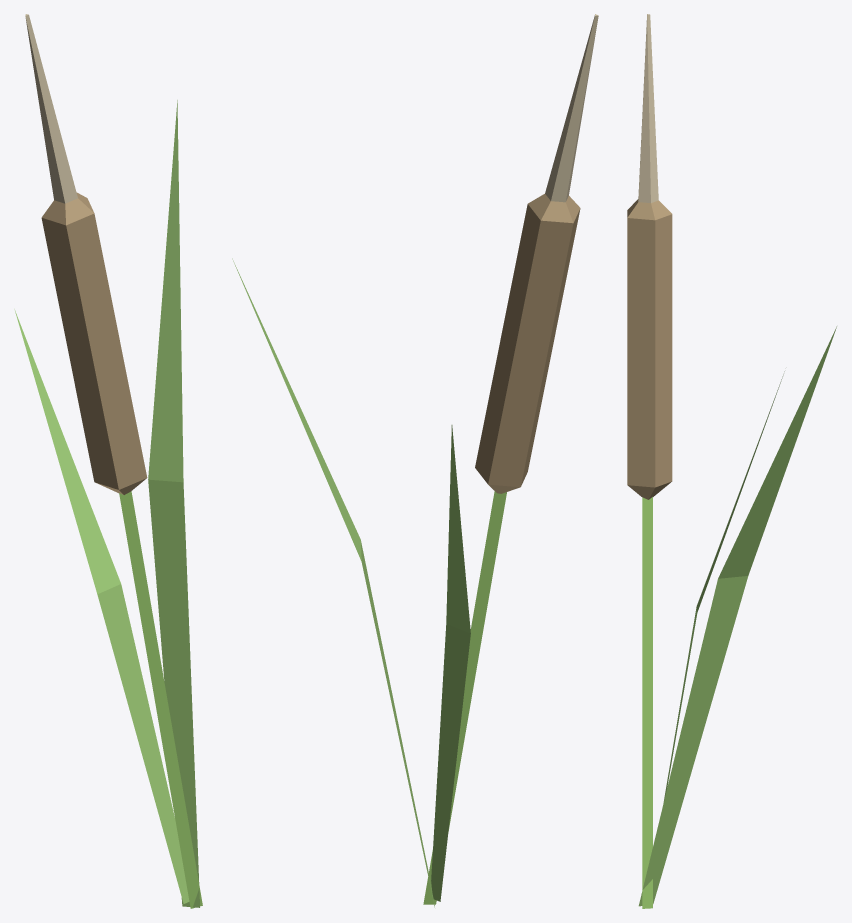
Rendered from Reed_a_01.fbx.
3 renders of one model, left to right at view 1: azimuth 30°, elevation 25°; view 2: azimuth 150°, elevation 25°; view 3: azimuth 270°, elevation 25°, orthographic. The views are drawn at different scales.
Parts seen in each view (by area): view 1: Reed_a_01; view 2: Reed_a_01; view 3: Reed_a_01.
Part boxes in pixels (x1,y1,x2,y2): Reed_a_01: (14,14,202,908); Reed_a_01: (232,14,598,907); Reed_a_01: (627,14,836,908).
Bounding box in the file's own units: 31.84 × 109 × 25.29.
